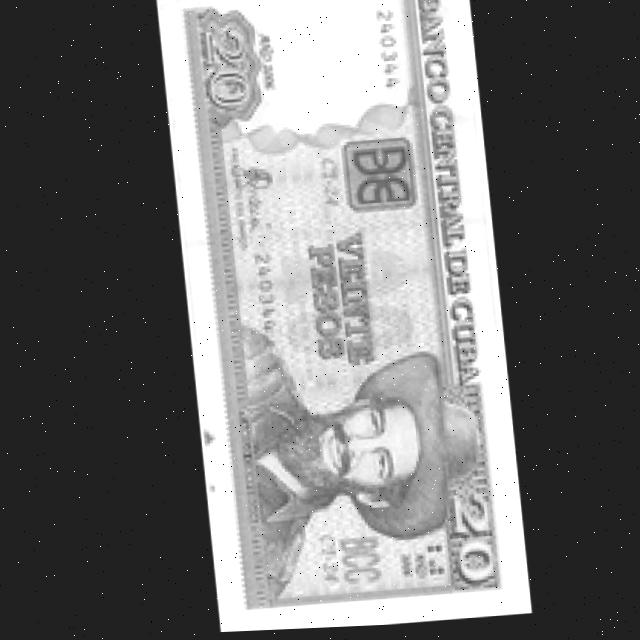banknote: (155, 0, 525, 635)
